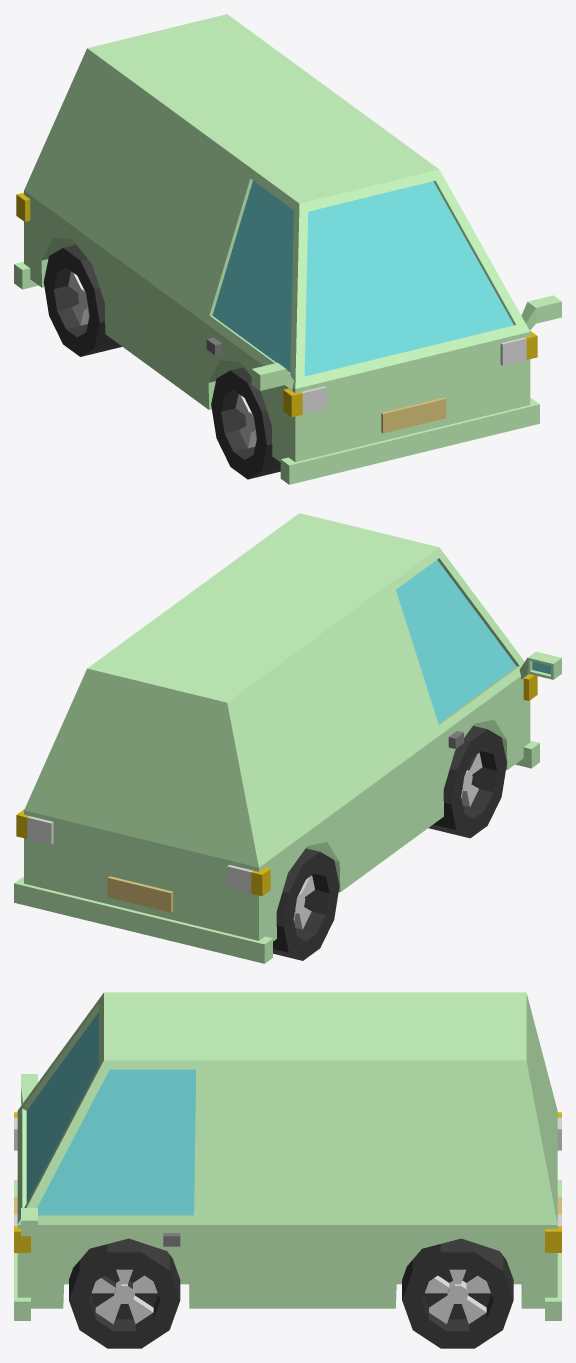
The model's file is Van.glb.
3 views of the same model, one above another, from view 1: azimuth 30°, elevation 25°; view 2: azimuth 150°, elevation 25°; view 3: azimuth 270°, elevation 25° (orthographic).
Visible parts, largest first — view 1: Cube.005; view 2: Cube.005; view 3: Cube.005.
Boxes of the visible parts, x1,y1,x2,y2 form: Cube.005: [14, 14, 561, 484]; Cube.005: [14, 513, 561, 963]; Cube.005: [14, 992, 561, 1348].
Size of the model in its own units: 2.57 by 2.16 by 4.06.
